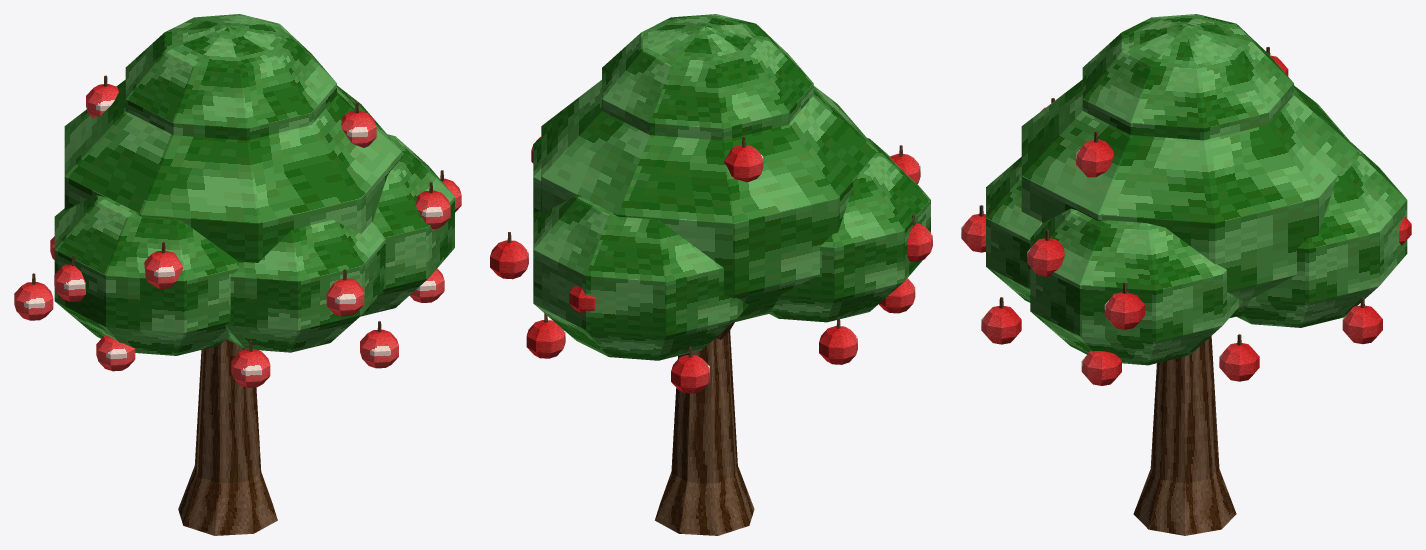
Rendered from arvore_frutifera_macieira.glb.
The picture shows the model from 3 angles, left to right: view 1: azimuth 30°, elevation 25°; view 2: azimuth 150°, elevation 25°; view 3: azimuth 270°, elevation 25°; orthographic projection.
Visible parts, largest first — view 1: Tree_Body, Fruits; view 2: Tree_Body, Fruits; view 3: Tree_Body, Fruits.
Part boxes in pixels (box(x1,y1,x2,y2)): Tree_Body: box(32, 14, 454, 535); Fruits: box(14, 84, 461, 387); Tree_Body: box(507, 14, 930, 535); Fruits: box(490, 136, 932, 393); Tree_Body: box(979, 14, 1407, 535); Fruits: box(961, 55, 1411, 385).
Bounding box in the file's own units: 3.61 × 4.21 × 3.52.
1 material, 1 textured.
